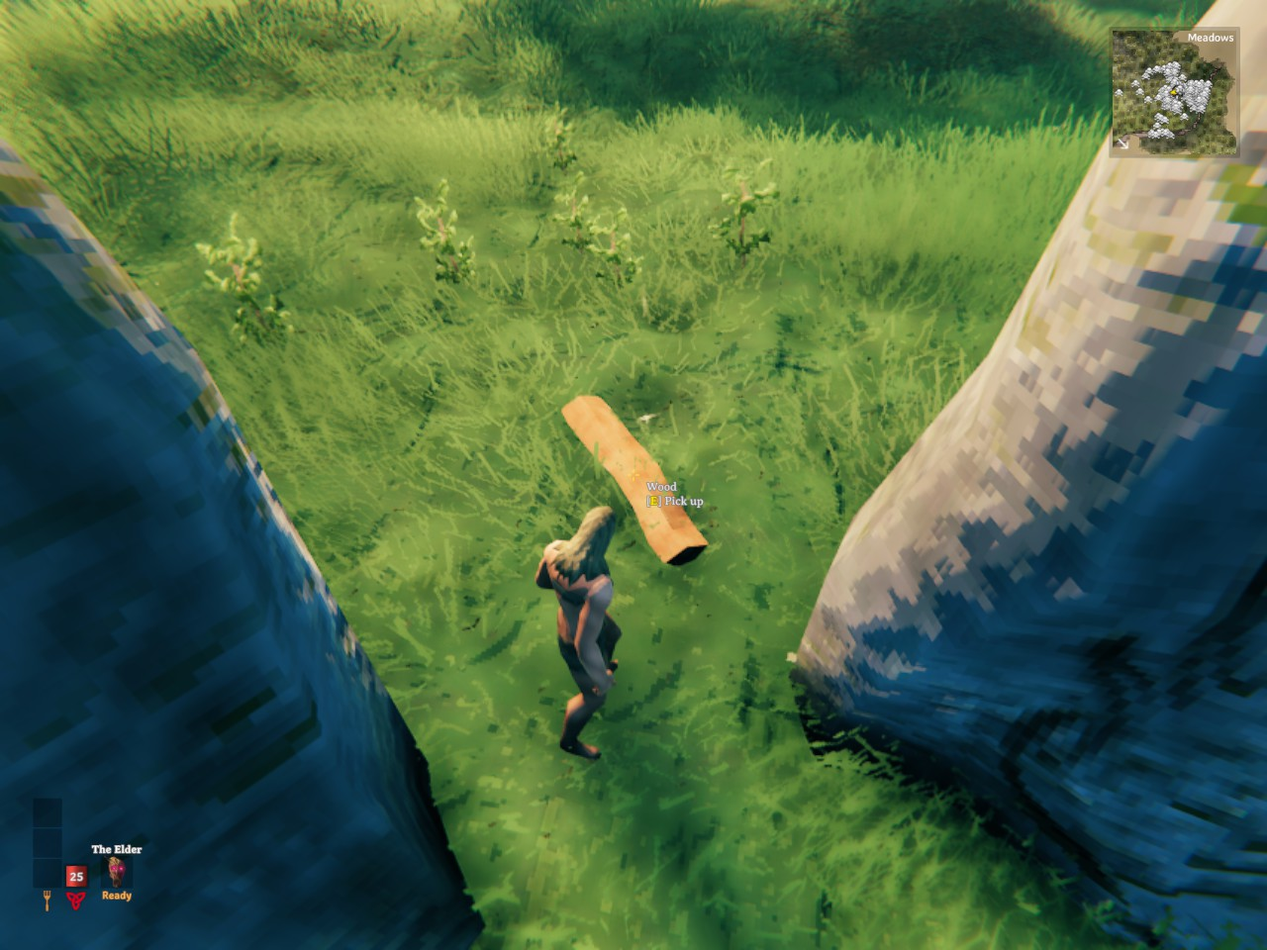Health Bar: (65, 865, 86, 889)
Wood: (562, 397, 707, 564)
